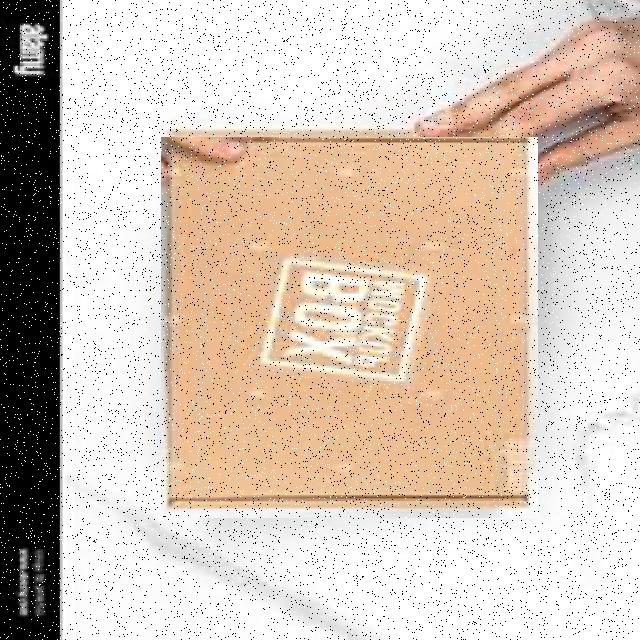normal: (160, 137, 537, 518)
